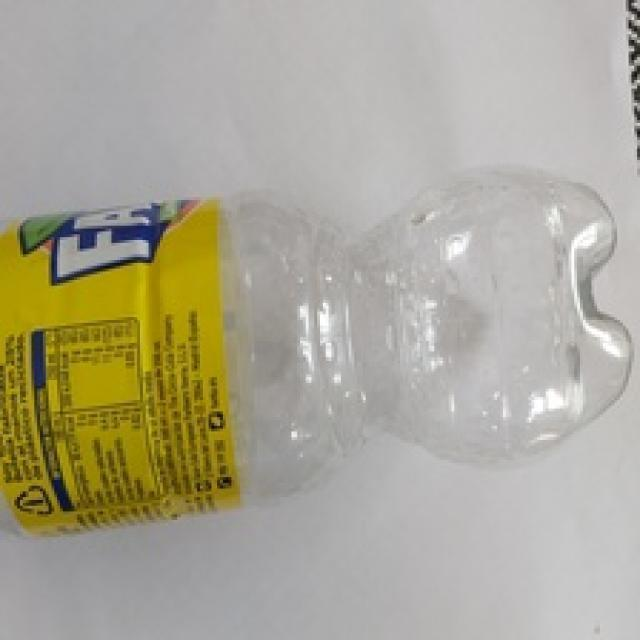Plastic: (0, 158, 636, 548)
